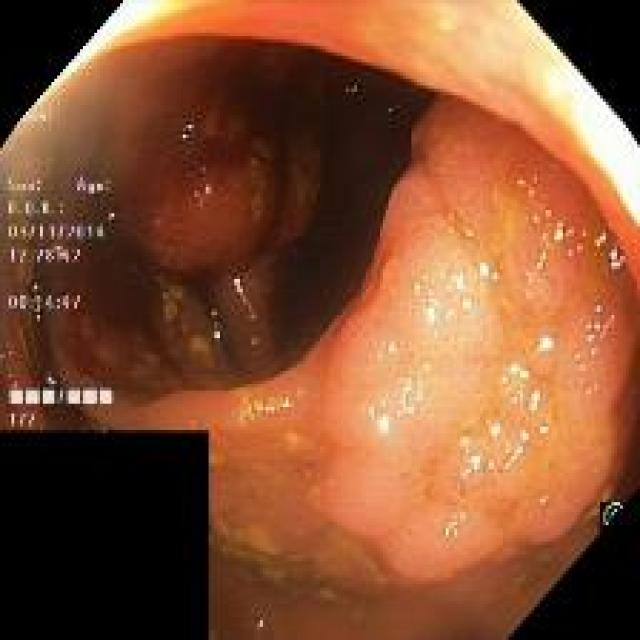Polyps: (324, 98, 638, 582), (134, 112, 280, 273)
